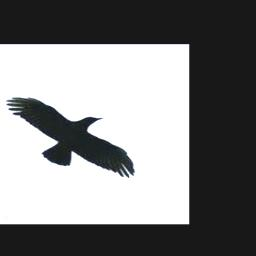Crow: (6, 97, 136, 178)
